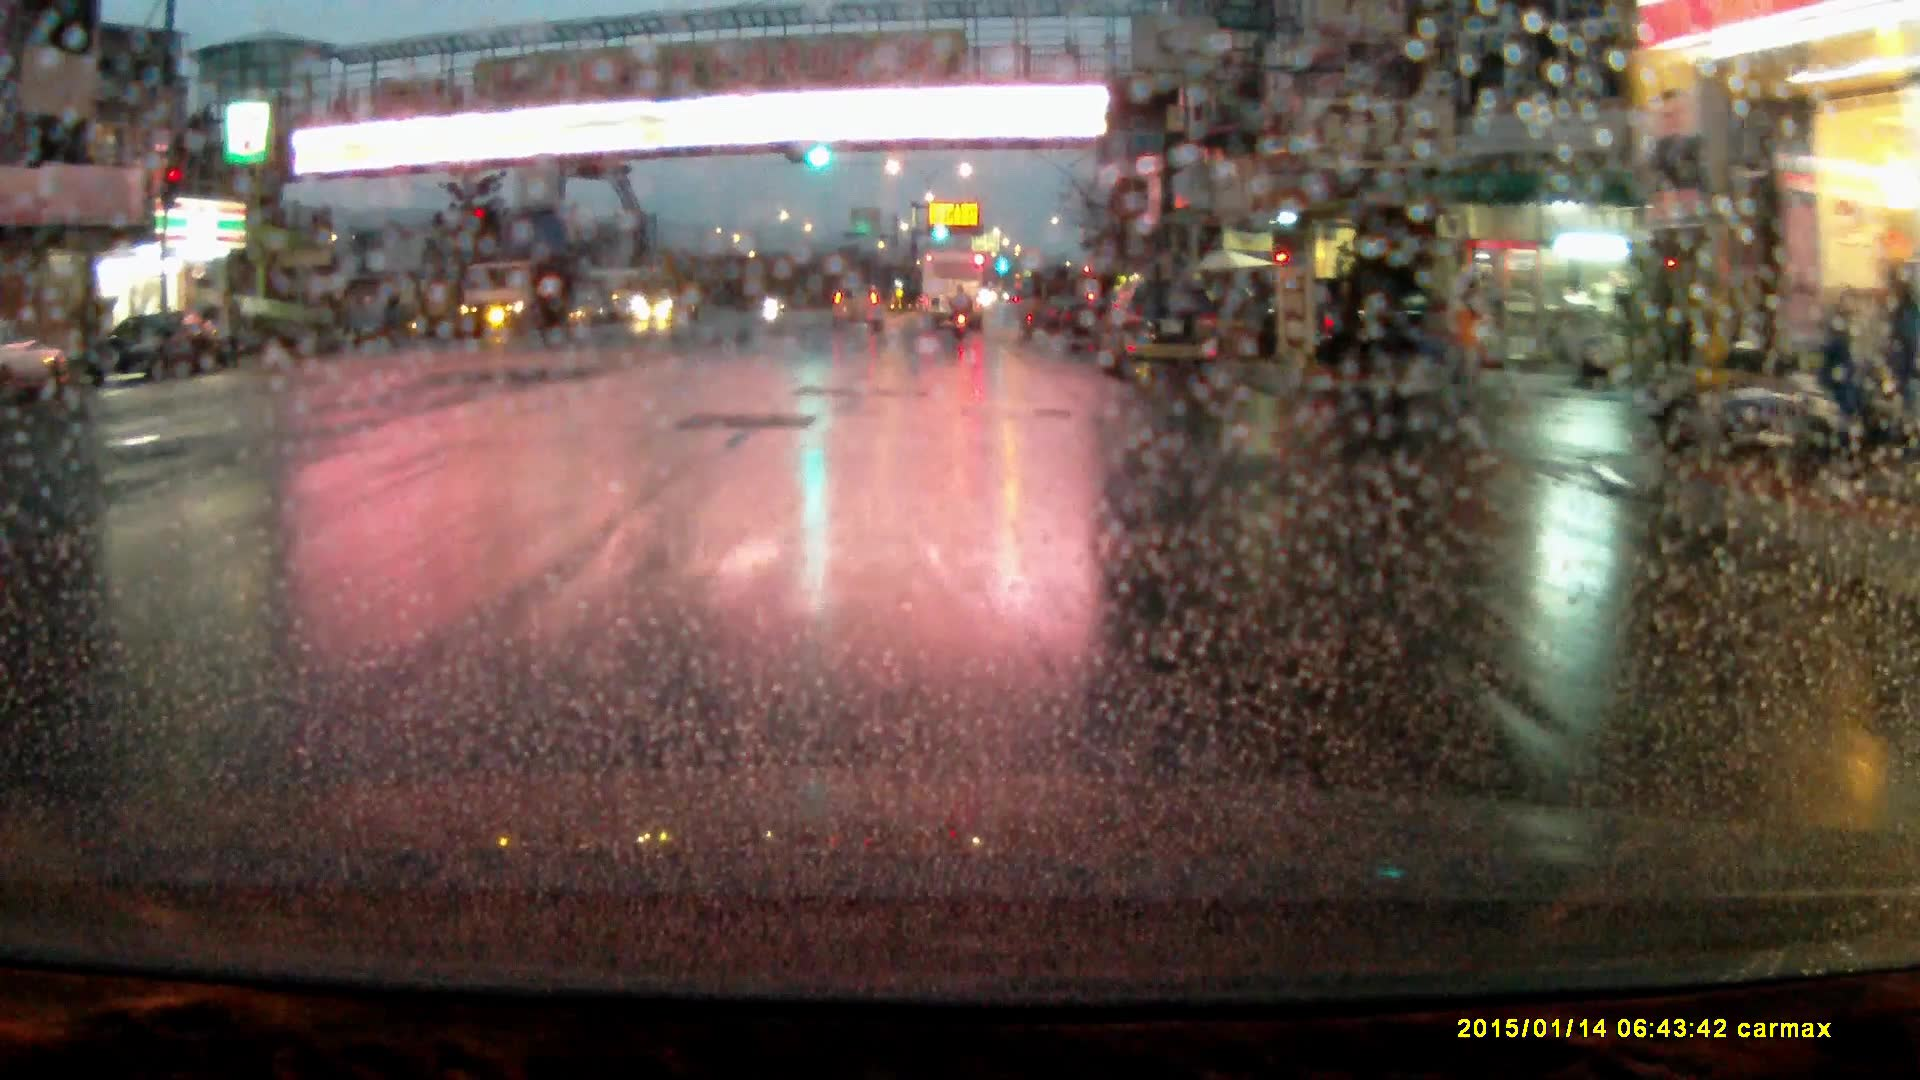pedestrian: (1437, 279, 1493, 426)
rider: (950, 284, 974, 341)
vehicle: (1097, 280, 1220, 391), (78, 319, 222, 394), (1319, 283, 1428, 369), (451, 263, 569, 341), (1, 328, 81, 410), (922, 256, 984, 335), (632, 280, 700, 330), (832, 290, 886, 338)
